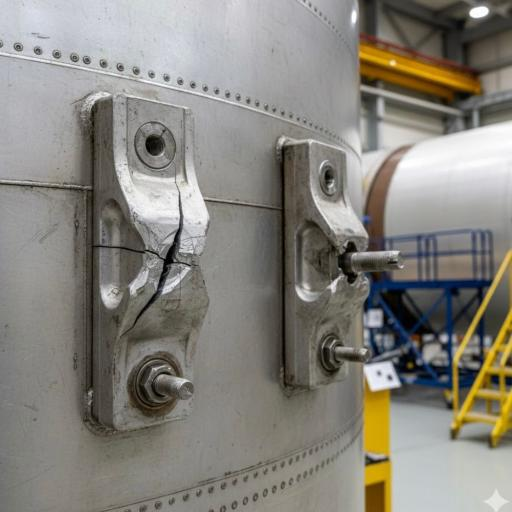fastening crack: (114, 175, 226, 332)
